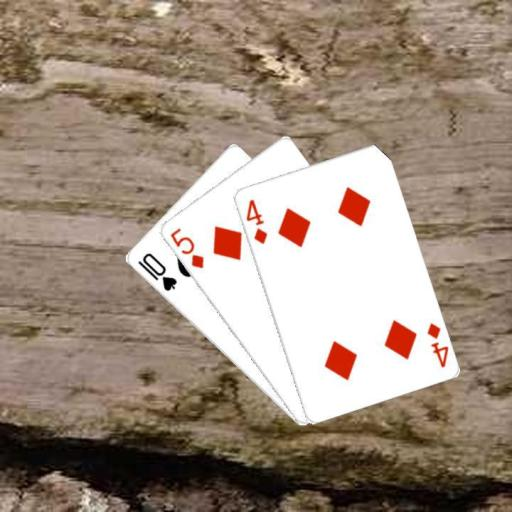10S: (134, 250, 179, 293)
4D: (242, 196, 269, 246), (423, 319, 450, 369)
5D: (167, 225, 206, 270)
